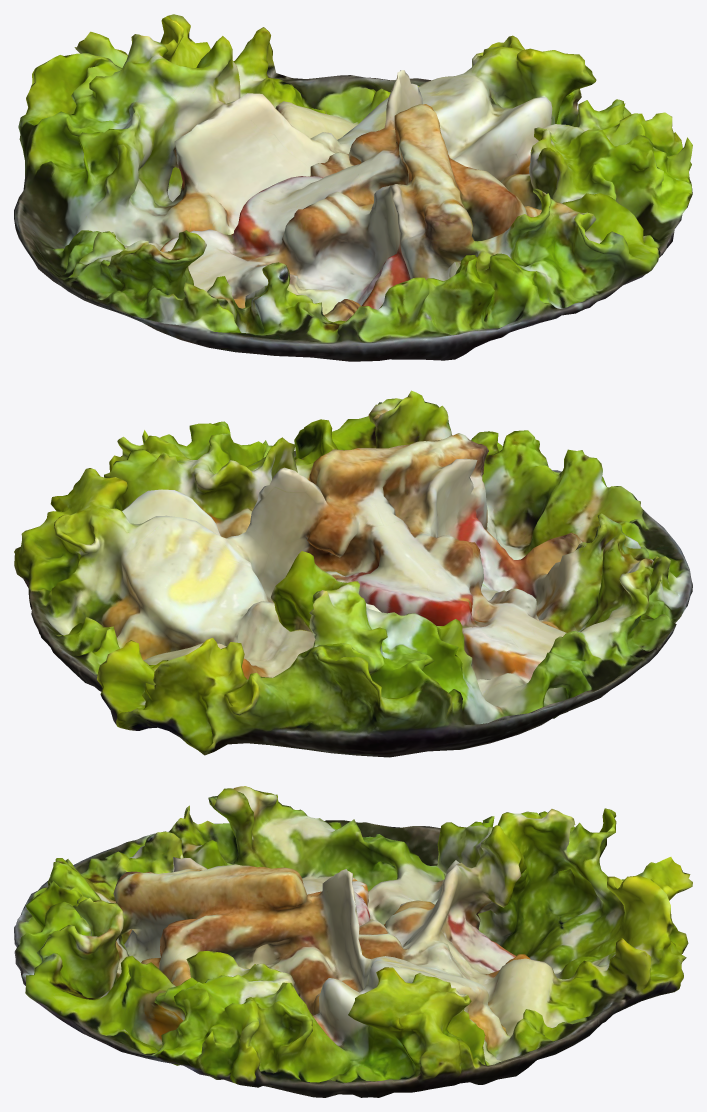
The model's file is salade-cesar.glb.
3 views of the same model, one above another, from view 1: azimuth 30°, elevation 25°; view 2: azimuth 150°, elevation 25°; view 3: azimuth 270°, elevation 25° (orthographic). The views are drawn at different scales.
Parts seen in each view (by area): view 1: /ObjectCapture/Geometry/Mesh; view 2: /ObjectCapture/Geometry/Mesh; view 3: /ObjectCapture/Geometry/Mesh.
Boxes of the visible parts, <box> form: /ObjectCapture/Geometry/Mesh: <box>14,14,692,361</box>; /ObjectCapture/Geometry/Mesh: <box>14,390,692,757</box>; /ObjectCapture/Geometry/Mesh: <box>14,786,692,1097</box>.
Bounding box in the file's own units: 0.2223 × 0.068 × 0.2378.
Materials: 1 (1 with a texture image).
